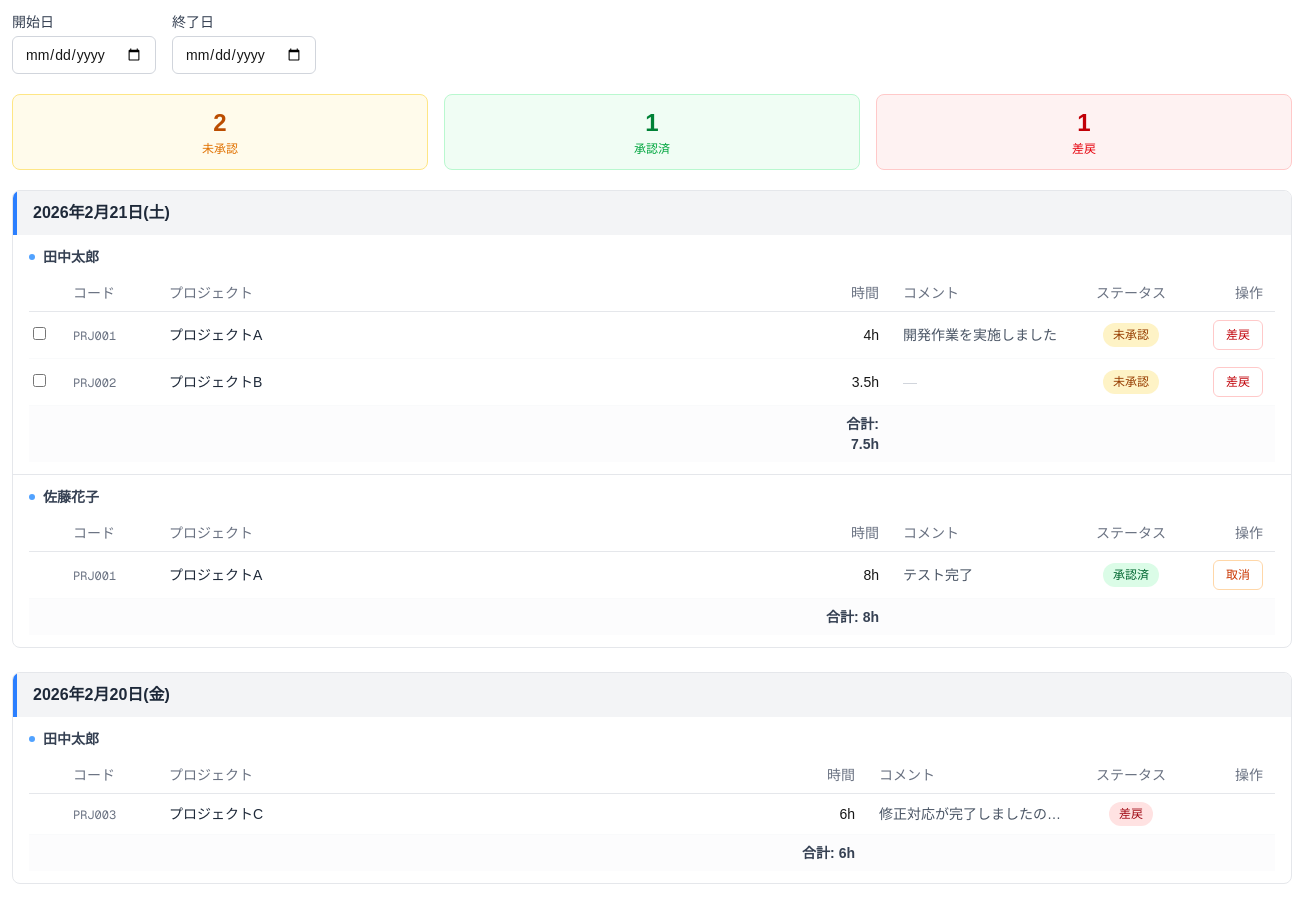
Scenario: DailyApprovalDashboard › Bulk Approve › shows bulk approve button with count when entries are selected
This screenshot has width=1292, height=912.
Click the 1st checkbox: (40,334) [33,327,46,340]
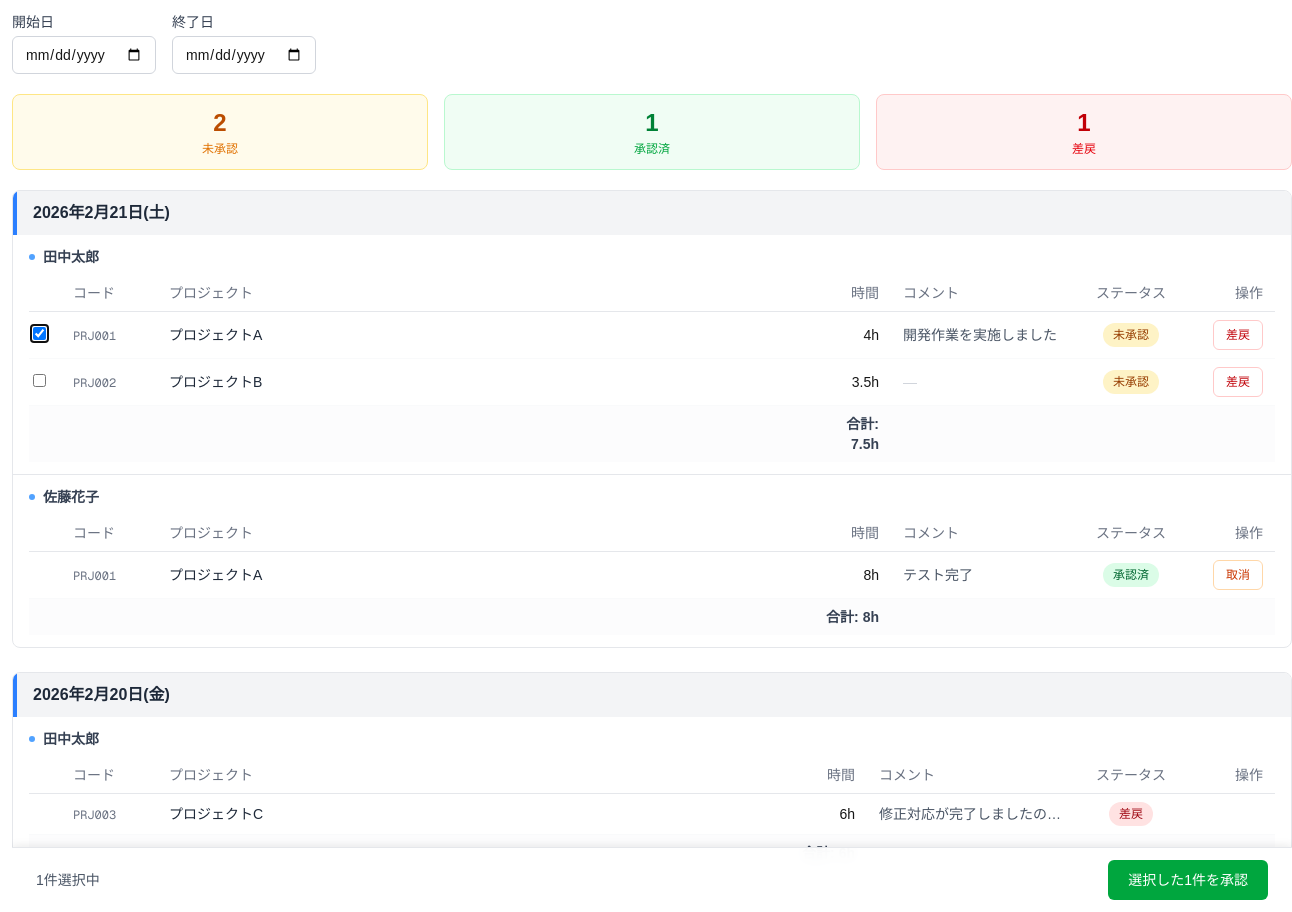
Expected: the button "選択した1件を承認" is shown, [1108,860,1268,900]
